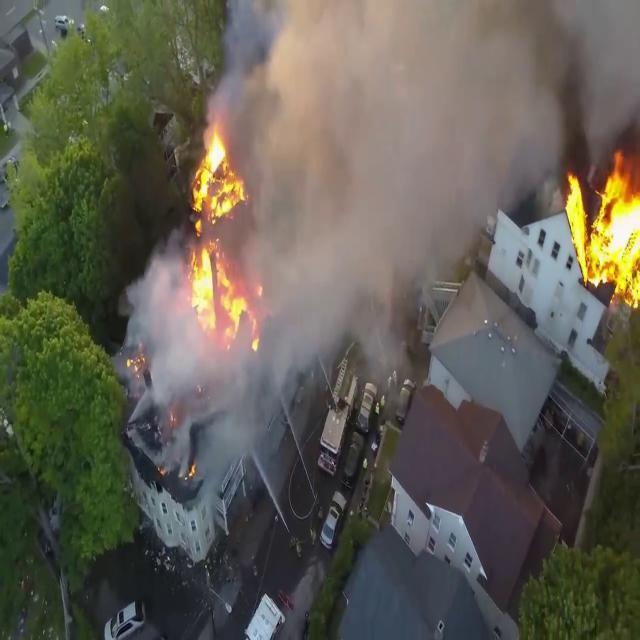Fire: (178, 125, 258, 352), (562, 152, 640, 307)
Smoke: (220, 0, 638, 385), (119, 224, 193, 388)
